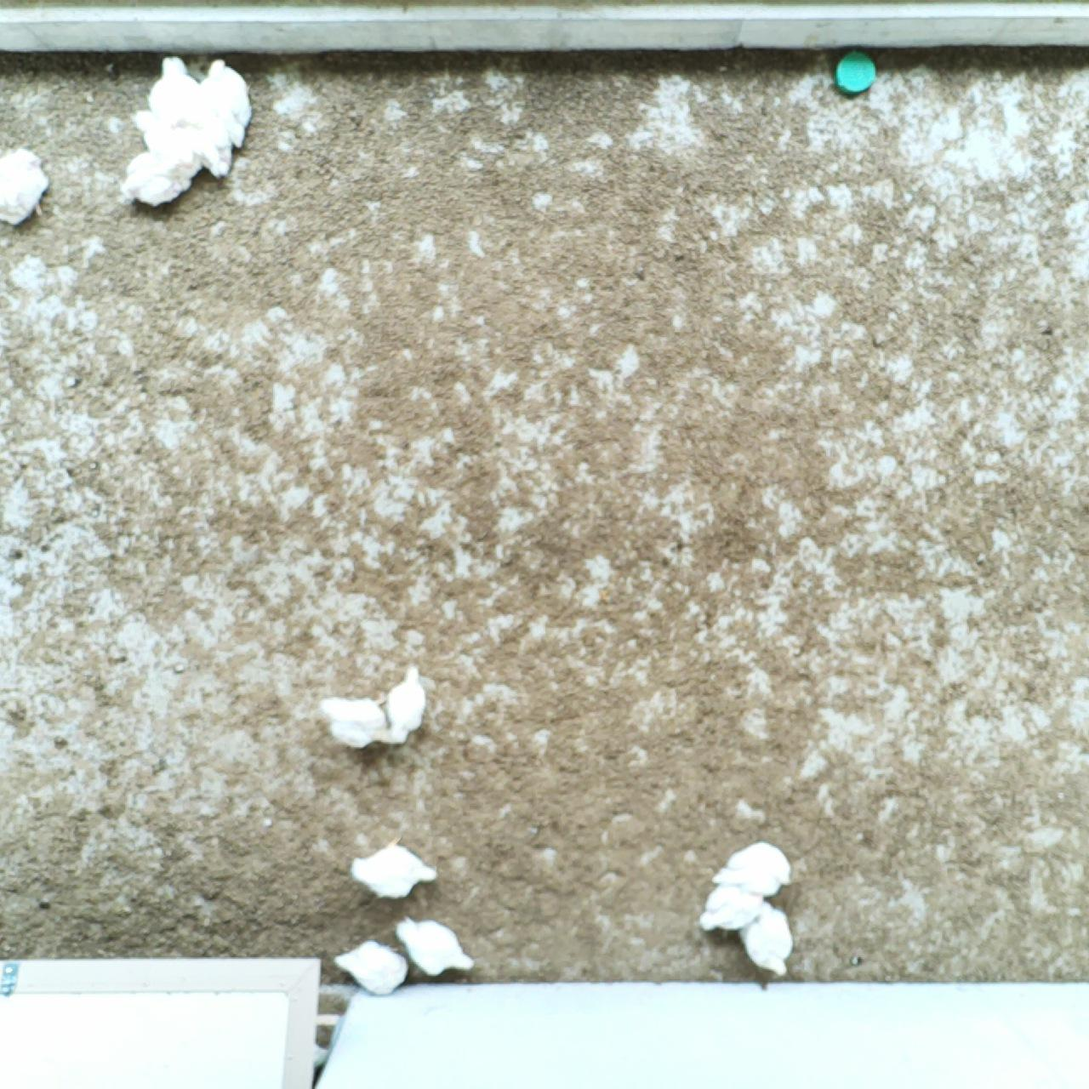chicken: (350, 834, 440, 901), (392, 912, 476, 979), (735, 895, 795, 975), (712, 838, 793, 897), (334, 935, 413, 995), (317, 689, 393, 751), (197, 57, 250, 143), (125, 145, 194, 205), (0, 145, 50, 227), (186, 101, 235, 184), (383, 659, 429, 743), (696, 882, 768, 935), (146, 52, 197, 125), (123, 100, 192, 151)
